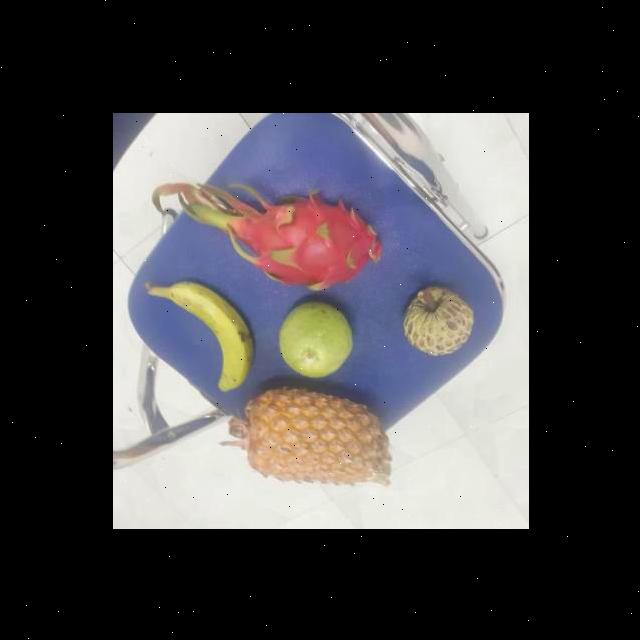Sakya fruit: (403, 284, 477, 354)
banana: (164, 280, 258, 388)
guava: (276, 298, 356, 377)
pineapple: (242, 382, 392, 482)
pitaya: (234, 190, 388, 290)
